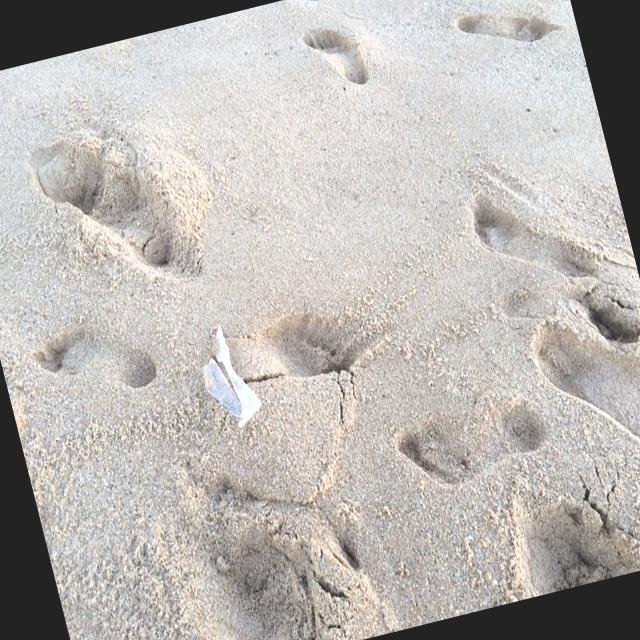Trash: (183, 316, 272, 434)
